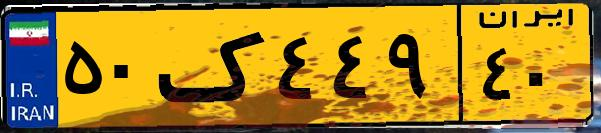0: (525, 38, 570, 115), (110, 28, 158, 98)
4: (270, 28, 330, 110), (330, 28, 385, 110), (475, 38, 525, 113)
5: (57, 26, 110, 100)
9: (385, 28, 445, 110)
ک: (158, 12, 270, 120)
